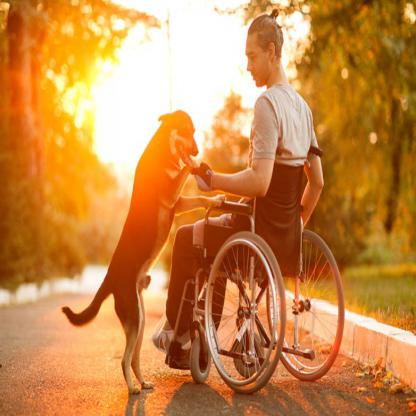wheelchair: (165, 10, 345, 392)
